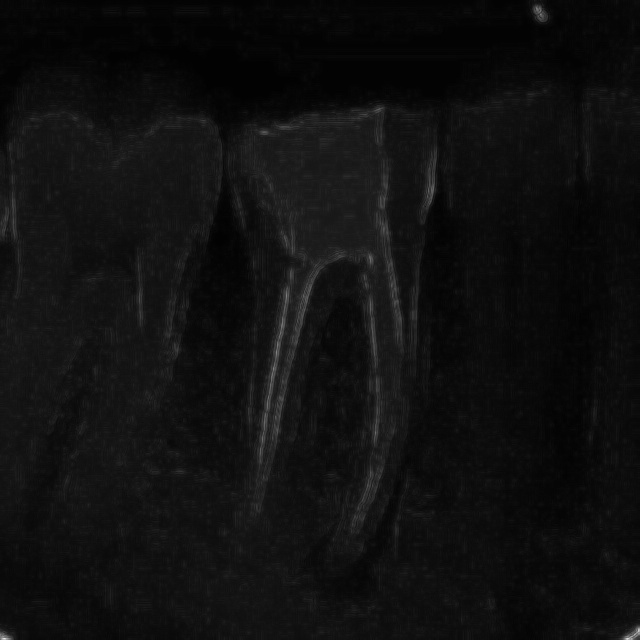Class 0- No endodontic treatment: (210, 66, 464, 616)
